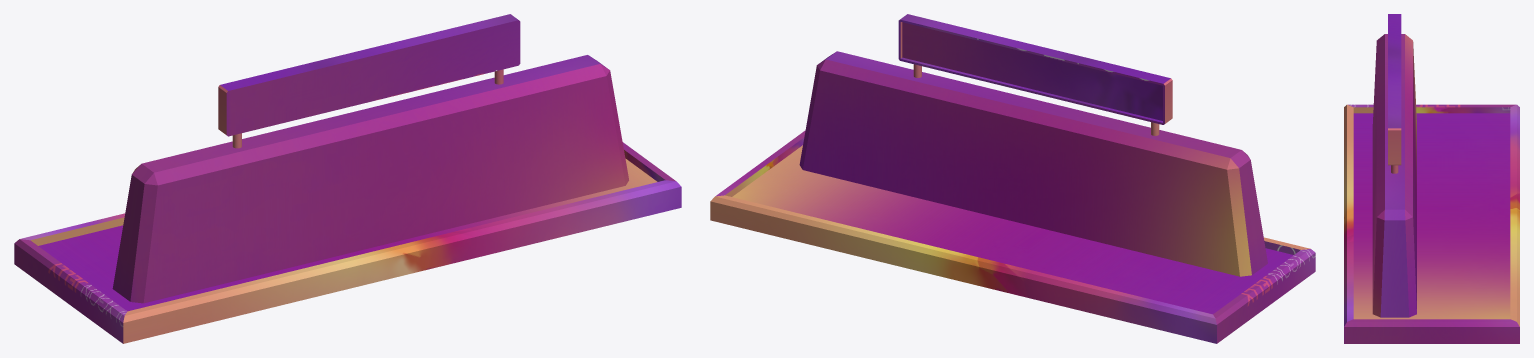
Rendered from train_info_box.fbx.
3 renders of one model, left to right at view 1: azimuth 30°, elevation 25°; view 2: azimuth 150°, elevation 25°; view 3: azimuth 270°, elevation 25°, orthographic. The views are drawn at different scales.
Visible parts, largest first — view 1: train_info_box; view 2: train_info_box; view 3: train_info_box.
Part boxes in pixels (<box>): train_info_box: <box>14,14,681,343</box>; train_info_box: <box>710,14,1315,343</box>; train_info_box: <box>1344,14,1519,343</box>.
Bounding box in the file's own units: 770 × 265 × 260.
Materials: 1 (1 with a texture image).
